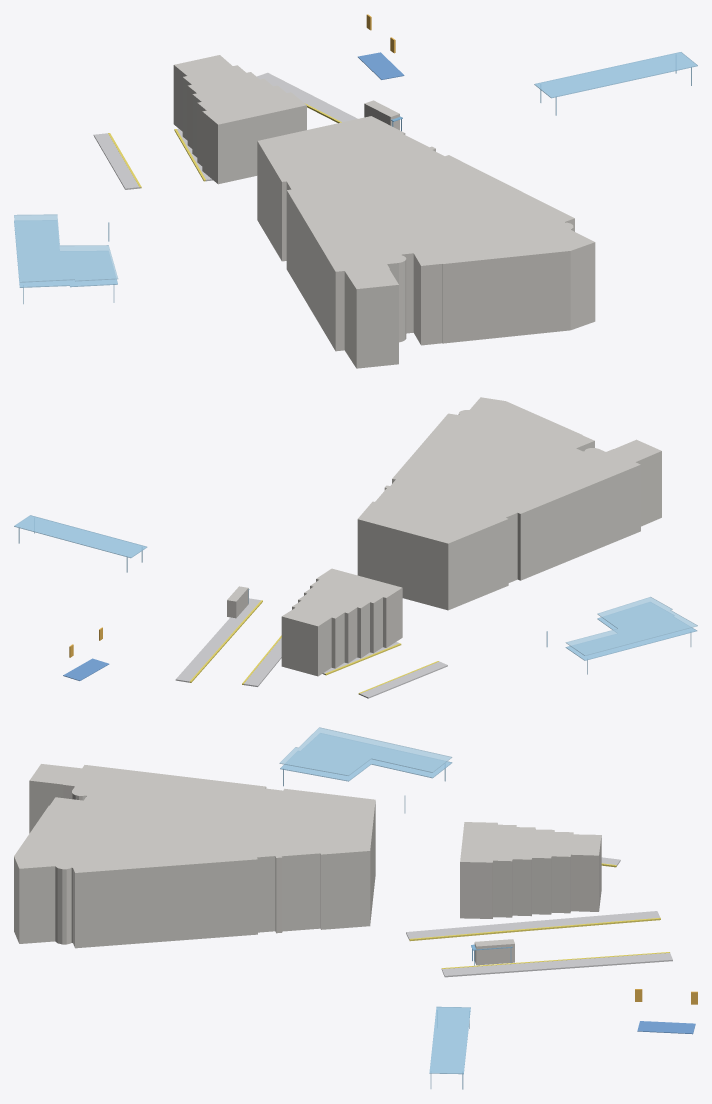
Rendered from 8589993-bern-wander.glb.
3 renders of one model, top to bottom at view 1: azimuth 30°, elevation 25°; view 2: azimuth 150°, elevation 25°; view 3: azimuth 270°, elevation 25°, orthographic. The views are drawn at different scales.
Visible parts, largest first — view 1: building_part@x, canopy@0, roof@0, platform_body@0, passage@-1; view 2: building_part@x, canopy@0, roof@0, platform_body@0, boarding_edge@0, passage@-1; view 3: building_part@x, canopy@0, roof@0, platform_body@0, boarding_edge@0, passage@-1.
Part boxes in pixels (<box>): building_part@x: <box>173,55,595,368</box>; canopy@0: <box>14,52,697,304</box>; roof@0: <box>14,214,118,282</box>; platform_body@0: <box>93,72,357,189</box>; passage@-1: <box>358,52,404,79</box>; building_part@x: <box>227,397,661,676</box>; canopy@0: <box>14,515,697,674</box>; roof@0: <box>565,596,697,655</box>; platform_body@0: <box>175,598,447,698</box>; boarding_edge@0: <box>189,600,438,694</box>; passage@-1: <box>63,658,109,680</box>; building_part@x: <box>14,764,601,965</box>; canopy@0: <box>280,733,470,1089</box>; roof@0: <box>279,727,452,775</box>; platform_body@0: <box>406,857,672,977</box>; boarding_edge@0: <box>409,863,669,968</box>; passage@-1: <box>637,1021,695,1034</box>.
Size of the model in its own units: 136 by 18.62 by 115.
